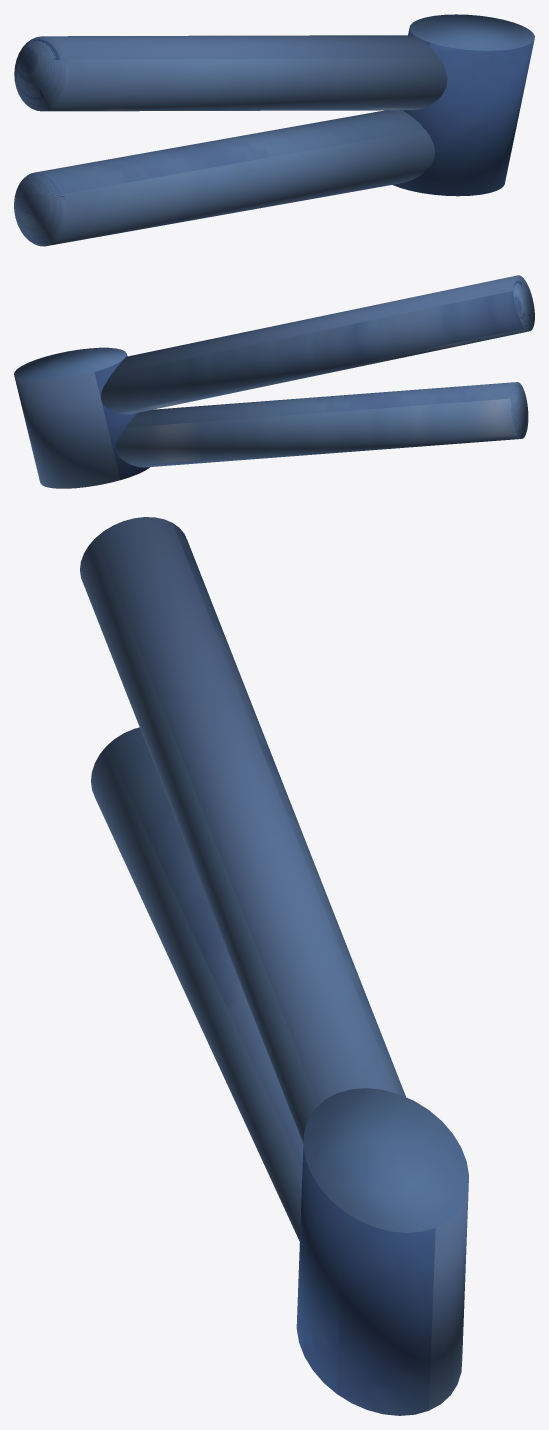
File: BlasterTip.fbx
3 views of the same model, one above another, from view 1: azimuth 30°, elevation 25°; view 2: azimuth 150°, elevation 25°; view 3: azimuth 270°, elevation 25° (orthographic). The views are drawn at different scales.
Parts seen in each view (by area): view 1: BlasterTip; view 2: BlasterTip; view 3: BlasterTip.
Boxes of the visible parts, x1,y1,x2,y2 form: BlasterTip: [14, 14, 534, 246]; BlasterTip: [14, 275, 534, 488]; BlasterTip: [80, 517, 468, 1415].
Size of the model in its own units: 2.39 by 1.28 by 0.8994.
